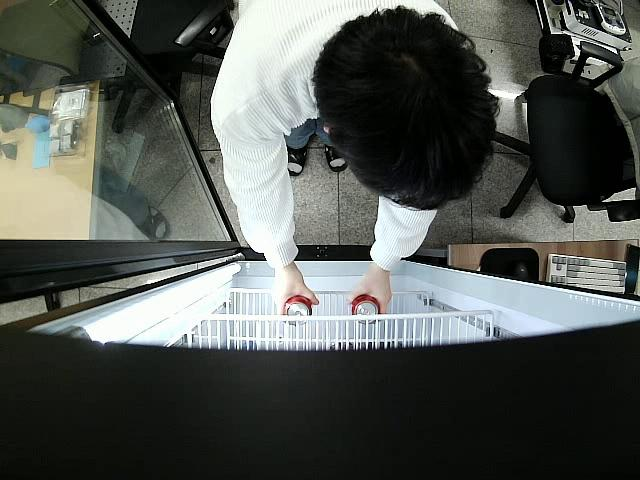00_hand: (345, 273, 392, 325), (272, 275, 319, 321)
11_cocaColaZero: (349, 293, 381, 323), (282, 295, 312, 323)
